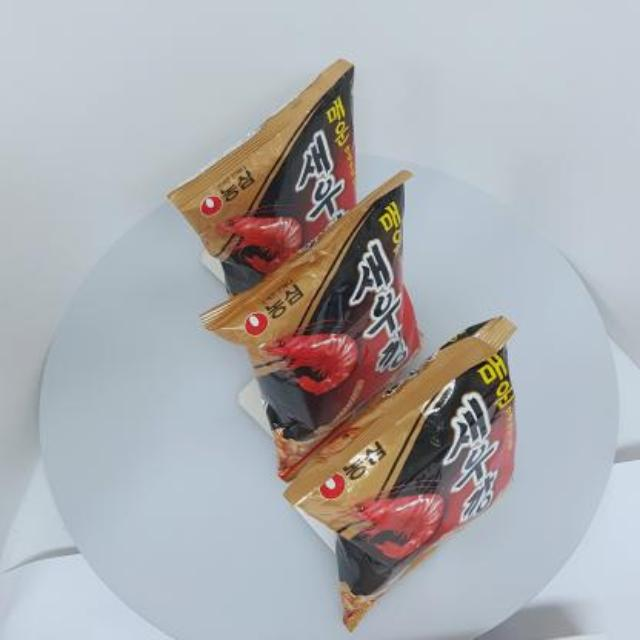snack_bag: (163, 49, 532, 636)
